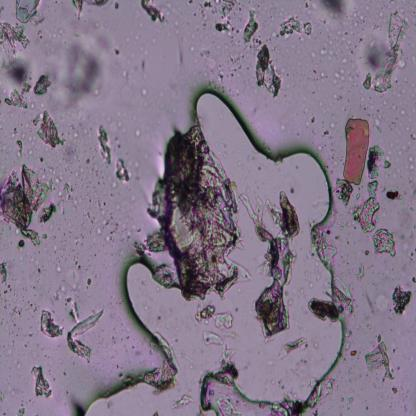Air bubble: (191, 85, 359, 416), (76, 253, 190, 416)
Background material: (143, 121, 252, 298), (240, 186, 300, 343), (0, 164, 56, 244), (360, 6, 410, 93), (64, 36, 106, 98), (67, 302, 105, 362), (201, 329, 240, 380), (306, 217, 338, 268), (254, 44, 282, 99), (195, 303, 240, 336), (32, 110, 67, 150), (364, 336, 394, 382), (354, 179, 381, 230), (0, 22, 30, 58), (204, 1, 235, 35), (308, 375, 338, 409), (307, 294, 342, 322), (34, 24, 70, 51), (368, 143, 392, 180), (332, 276, 355, 312), (30, 363, 53, 399), (3, 82, 32, 110), (38, 306, 63, 338), (277, 16, 313, 38), (5, 58, 32, 87), (391, 282, 412, 318), (332, 178, 354, 210), (278, 337, 306, 362), (96, 123, 112, 166), (373, 230, 397, 258), (317, 0, 348, 21), (70, 0, 112, 15), (140, 0, 166, 23), (244, 7, 260, 44), (99, 214, 120, 242), (16, 0, 42, 22), (58, 145, 80, 171), (227, 49, 247, 77), (113, 154, 131, 182), (262, 2, 284, 22), (0, 382, 23, 401), (318, 40, 338, 61), (34, 74, 51, 97), (56, 186, 75, 206), (371, 293, 388, 315), (393, 142, 410, 163), (383, 187, 403, 204), (348, 12, 368, 29), (339, 30, 353, 54), (172, 393, 194, 408), (69, 394, 84, 416), (373, 105, 384, 133), (65, 266, 77, 291), (214, 64, 225, 91), (326, 218, 344, 234), (364, 288, 375, 314), (52, 286, 68, 302), (299, 0, 316, 15), (335, 68, 346, 91), (355, 262, 367, 282), (133, 241, 148, 257), (392, 164, 409, 178), (353, 320, 372, 332), (229, 31, 242, 48), (70, 250, 81, 270), (85, 20, 102, 32), (94, 198, 105, 216), (49, 168, 60, 186), (0, 259, 8, 283), (83, 210, 95, 226), (398, 230, 408, 249), (340, 98, 352, 113), (10, 305, 22, 320), (129, 219, 141, 234), (15, 138, 24, 158), (112, 134, 122, 152), (54, 259, 65, 275), (389, 114, 399, 131), (407, 154, 416, 172), (249, 36, 262, 48), (197, 0, 206, 16), (314, 140, 326, 152), (26, 300, 37, 313), (60, 296, 73, 307), (18, 399, 26, 416), (0, 295, 9, 310), (198, 47, 210, 58), (133, 124, 141, 140), (8, 126, 17, 140), (15, 238, 26, 249), (122, 228, 132, 240), (140, 84, 148, 99), (358, 93, 366, 108), (348, 73, 357, 86), (164, 1, 172, 15), (27, 133, 37, 144), (121, 69, 131, 80), (0, 143, 12, 152), (13, 358, 22, 370), (318, 98, 327, 110), (173, 21, 181, 34), (112, 1, 121, 12), (112, 45, 121, 56), (349, 347, 358, 358), (27, 99, 35, 111), (47, 368, 55, 380), (394, 88, 406, 96), (406, 249, 414, 261), (410, 181, 416, 196), (71, 236, 81, 245), (30, 256, 39, 266), (393, 74, 401, 85), (111, 334, 118, 346), (411, 89, 416, 105), (309, 49, 317, 59), (86, 276, 92, 289), (235, 2, 243, 11), (140, 60, 146, 72), (405, 119, 411, 131), (150, 36, 158, 45), (270, 31, 278, 40), (382, 97, 390, 106), (26, 146, 33, 156), (403, 76, 410, 86), (341, 54, 348, 64), (304, 119, 310, 130), (373, 22, 379, 33), (346, 396, 354, 404), (371, 380, 379, 388), (322, 128, 330, 136), (298, 34, 306, 42), (391, 103, 398, 112), (332, 93, 341, 100), (0, 3, 5, 15), (280, 121, 286, 131), (346, 326, 352, 336), (72, 170, 79, 178), (111, 182, 117, 191), (189, 43, 195, 52), (189, 31, 195, 40), (125, 36, 132, 43), (134, 34, 141, 41), (320, 70, 326, 78), (368, 102, 374, 110), (330, 120, 336, 128), (190, 12, 198, 18), (72, 132, 80, 138), (344, 259, 350, 267), (310, 68, 318, 74), (310, 115, 316, 123), (410, 132, 416, 140), (406, 113, 411, 122), (38, 156, 44, 163), (115, 204, 121, 211), (52, 245, 58, 252), (310, 128, 316, 135), (400, 110, 406, 117), (370, 278, 376, 285), (334, 234, 340, 241), (21, 132, 26, 140), (103, 20, 108, 28), (37, 266, 42, 274), (24, 120, 29, 128), (157, 312, 162, 320), (148, 348, 153, 356), (382, 183, 386, 193), (365, 402, 369, 411), (378, 12, 384, 18), (39, 102, 45, 108), (44, 352, 50, 358), (364, 250, 370, 256), (362, 106, 368, 112), (267, 38, 273, 44), (296, 60, 302, 66), (346, 342, 350, 350), (194, 56, 198, 64), (331, 153, 335, 161), (409, 232, 413, 240), (188, 0, 193, 6), (94, 170, 99, 176), (22, 343, 28, 348), (329, 169, 334, 175), (348, 376, 353, 382), (370, 262, 376, 267), (410, 205, 414, 212), (0, 319, 4, 326), (316, 63, 320, 70), (359, 38, 364, 43), (314, 77, 319, 82), (126, 335, 131, 340), (404, 190, 408, 196), (396, 364, 400, 370), (296, 49, 300, 55), (86, 159, 90, 165), (236, 28, 240, 34), (92, 186, 96, 192), (80, 242, 84, 248), (63, 371, 67, 377), (4, 287, 7, 295), (120, 374, 124, 380), (407, 178, 411, 184), (392, 348, 396, 354), (12, 322, 17, 326), (328, 135, 333, 139), (246, 66, 250, 71), (80, 234, 84, 239), (57, 226, 61, 231), (330, 142, 334, 147), (28, 398, 32, 403), (346, 406, 350, 411), (322, 19, 326, 24), (116, 363, 119, 369), (110, 192, 113, 198), (256, 3, 260, 7), (32, 285, 36, 289), (7, 284, 11, 288), (9, 288, 13, 292), (66, 390, 70, 394), (388, 307, 391, 312), (397, 210, 400, 215), (312, 89, 315, 94), (29, 332, 32, 337), (97, 181, 100, 186), (132, 345, 135, 350), (346, 240, 349, 244), (325, 75, 328, 79), (332, 148, 335, 152), (63, 232, 66, 236), (102, 182, 105, 186), (12, 340, 14, 346), (295, 132, 299, 135), (413, 226, 416, 230), (286, 73, 290, 76), (353, 226, 356, 230), (94, 252, 96, 257), (104, 203, 106, 208), (312, 78, 315, 81), (69, 230, 72, 233), (351, 51, 354, 54), (16, 334, 18, 338), (369, 95, 371, 99), (391, 328, 393, 332), (359, 374, 361, 378), (340, 254, 342, 258), (88, 200, 91, 202), (414, 248, 416, 251), (355, 44, 357, 47), (65, 239, 66, 242)
Fragment: (344, 114, 369, 188)
